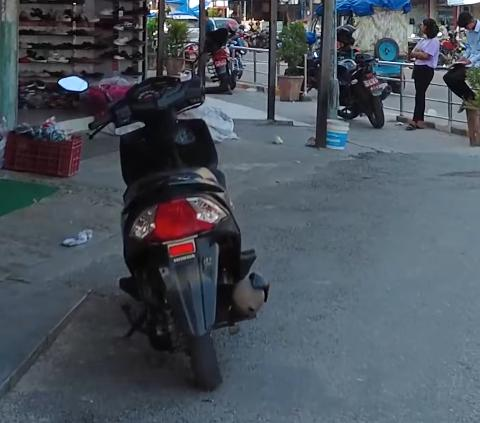scooter: (60, 27, 278, 400)
